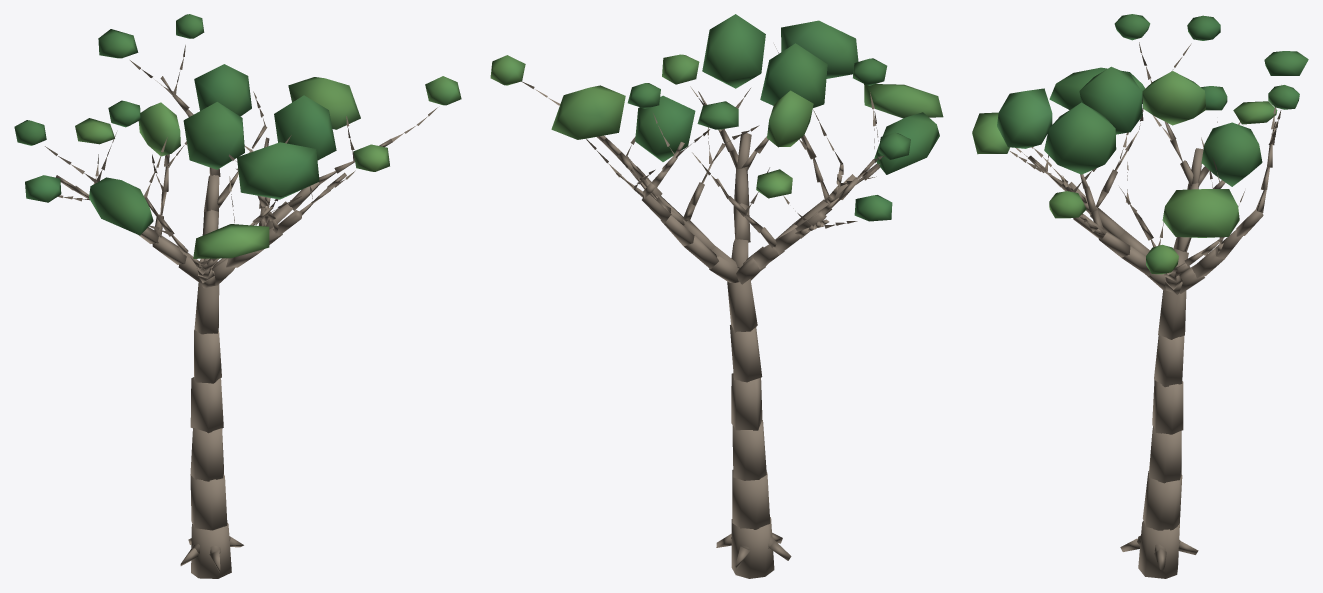
The model's file is tree_broadleaf_a_LOD1.glb.
The picture shows the model from 3 angles, left to right: view 1: azimuth 30°, elevation 25°; view 2: azimuth 150°, elevation 25°; view 3: azimuth 270°, elevation 25°; orthographic projection. The views are drawn at different scales.
Visible parts, largest first — view 1: tree_broadleaf_a_LOD1; view 2: tree_broadleaf_a_LOD1; view 3: tree_broadleaf_a_LOD1.
Part boxes in pixels (left/top/right/bottom): tree_broadleaf_a_LOD1: left=14, top=14, right=461, bottom=578; tree_broadleaf_a_LOD1: left=490, top=14, right=943, bottom=578; tree_broadleaf_a_LOD1: left=972, top=14, right=1308, bottom=578.
Size of the model in its own units: 10.06 by 11.56 by 6.93.
